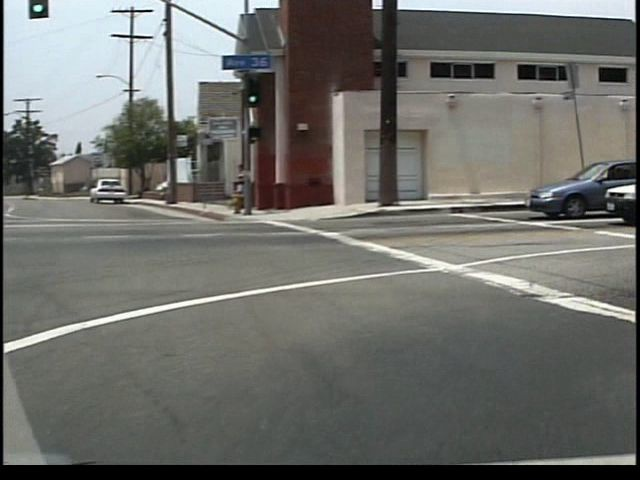person: (242, 165, 260, 215)
